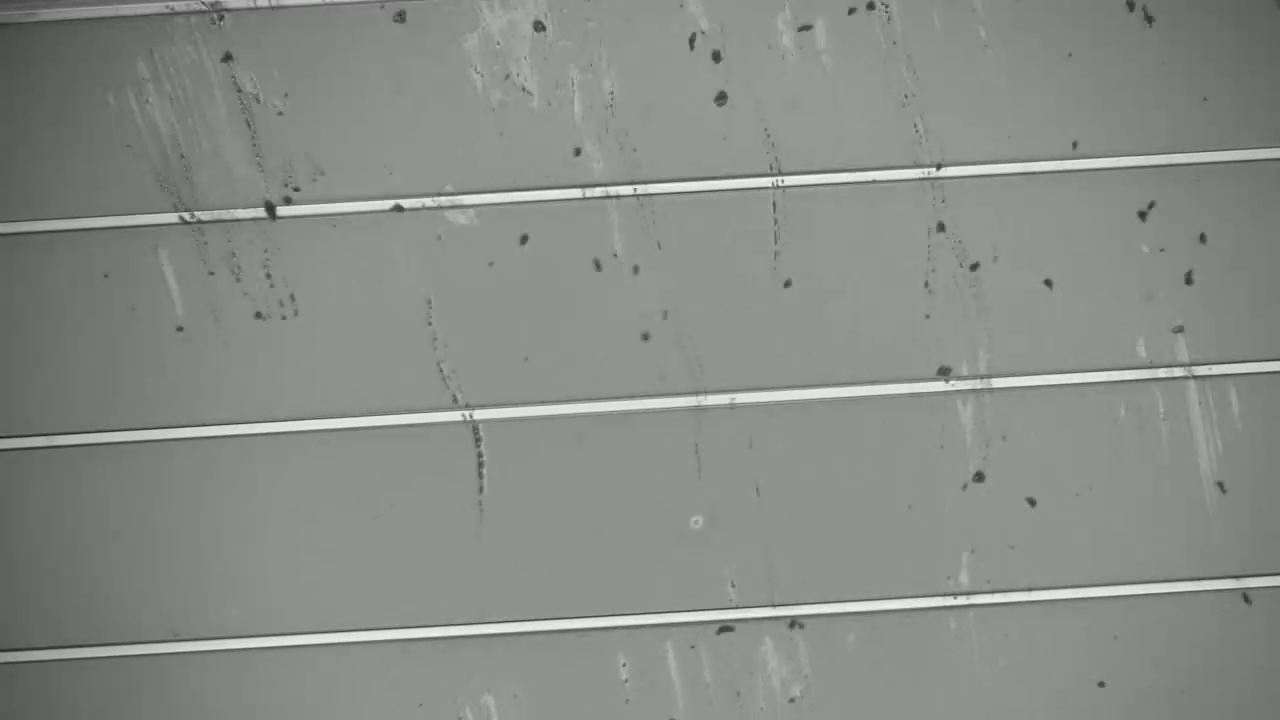scratch: (149, 24, 308, 306), (874, 17, 989, 346), (405, 299, 506, 546), (747, 102, 824, 301)
stains_enbedded: (383, 186, 412, 221), (256, 192, 283, 224)
